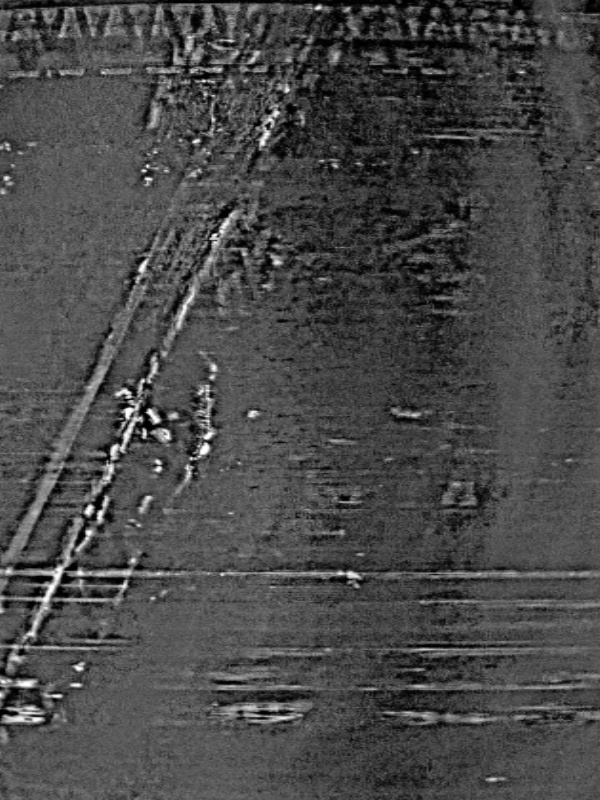splice_vulcanized: (1, 9, 312, 744)
